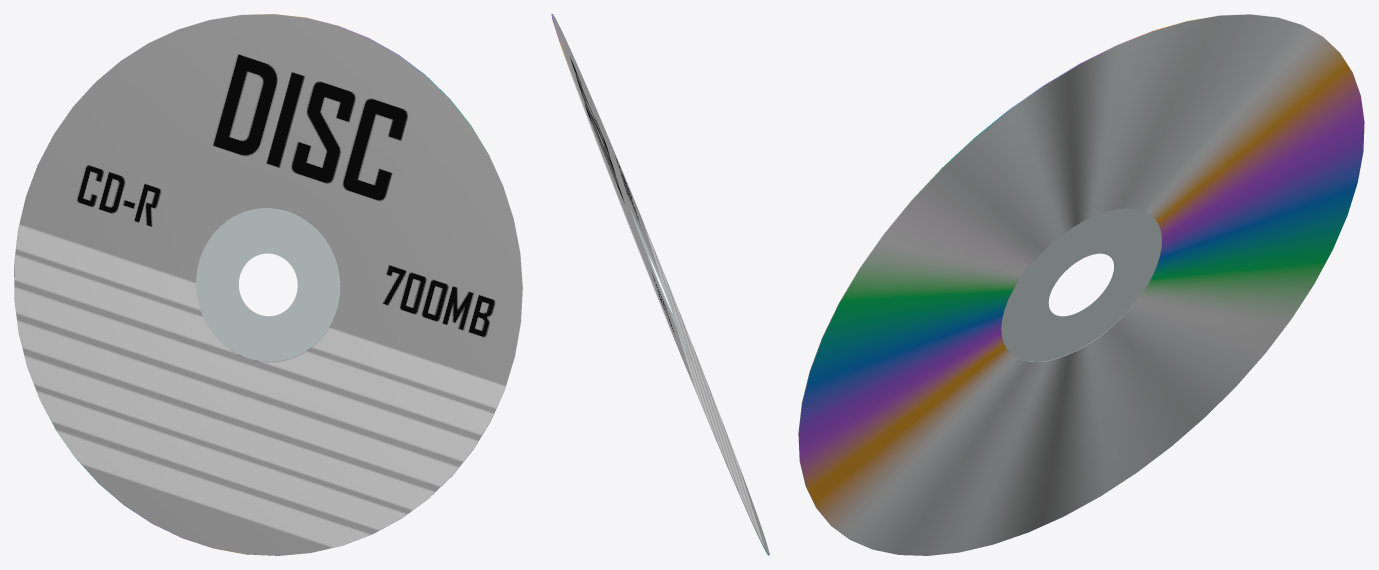
3 renders of one model, left to right at view 1: azimuth 30°, elevation 25°; view 2: azimuth 150°, elevation 25°; view 3: azimuth 270°, elevation 25°, orthographic. The views are drawn at different scales.
Parts seen in each view (by area): view 1: Cylinder001; view 2: Cylinder001; view 3: Cylinder001.
Boxes of the visible parts, left/top/right/bottom form: Cylinder001: left=14, top=14, right=522, bottom=555; Cylinder001: left=551, top=14, right=769, bottom=555; Cylinder001: left=798, top=14, right=1364, bottom=555.
Size of the model in its own units: 0.3517 by 0.4872 by 0.4233.
Materials: 1 (1 with a texture image).
